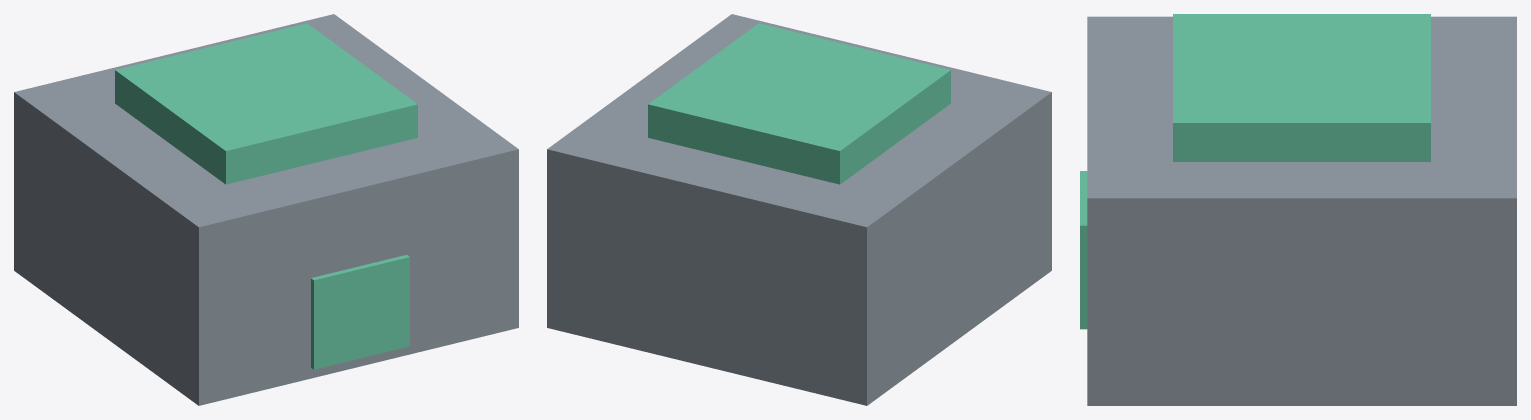
The model's file is CO_Barracks_LOD0.glb.
3 views of the same model, side by side, from view 1: azimuth 30°, elevation 25°; view 2: azimuth 150°, elevation 25°; view 3: azimuth 270°, elevation 25° (orthographic). The views are drawn at different scales.
Visible parts, largest first — view 1: EntranceGate; view 2: EntranceGate; view 3: EntranceGate.
Part boxes in pixels (<box>): EntranceGate: <box>14,14,518,405</box>; EntranceGate: <box>547,14,1051,405</box>; EntranceGate: <box>1080,14,1516,405</box>.
Size of the model in its own units: 600 by 380 by 610.
